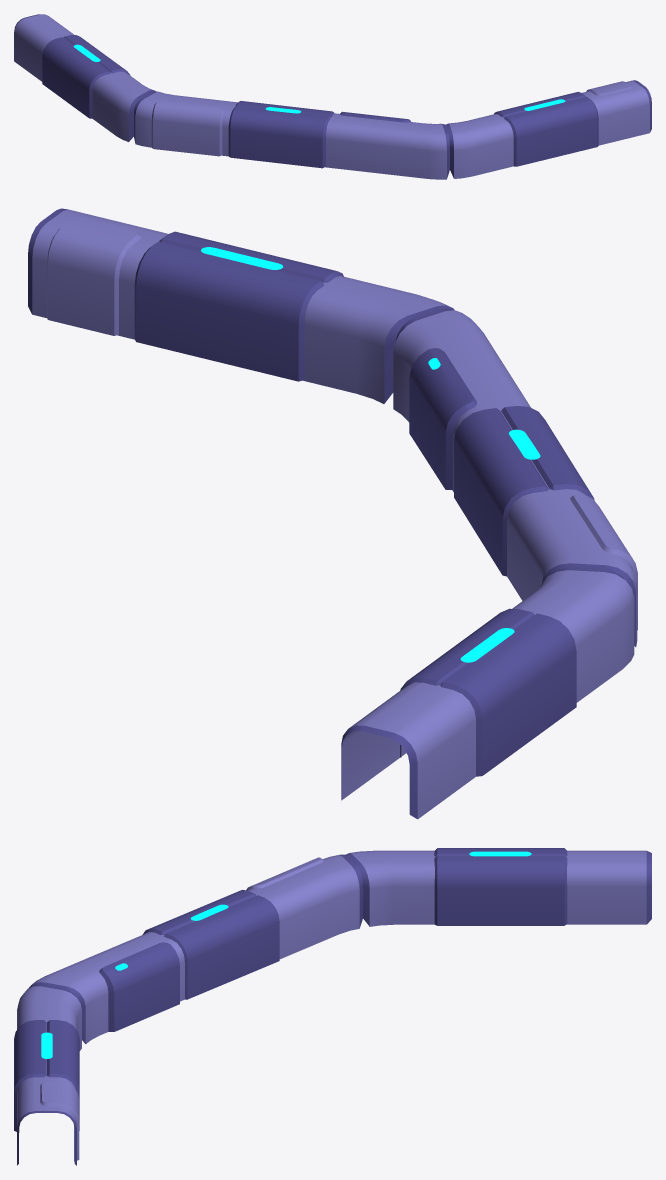
The model's file is wall_cornerLarge.glb.
3 renders of one model, top to bottom at view 1: azimuth 30°, elevation 25°; view 2: azimuth 150°, elevation 25°; view 3: azimuth 270°, elevation 25°, orthographic. The views are drawn at different scales.
Parts seen in each view (by area): view 1: Wall_cornerLarge; view 2: Wall_cornerLarge; view 3: Wall_cornerLarge.
Part boxes in pixels (x1,y1,x2,y2): Wall_cornerLarge: (14,14,651,179); Wall_cornerLarge: (28,208,637,819); Wall_cornerLarge: (14,848,651,1165).
Bounding box in the file's own units: 2.11 × 0.2119 × 2.11.
1 material, 1 textured.
